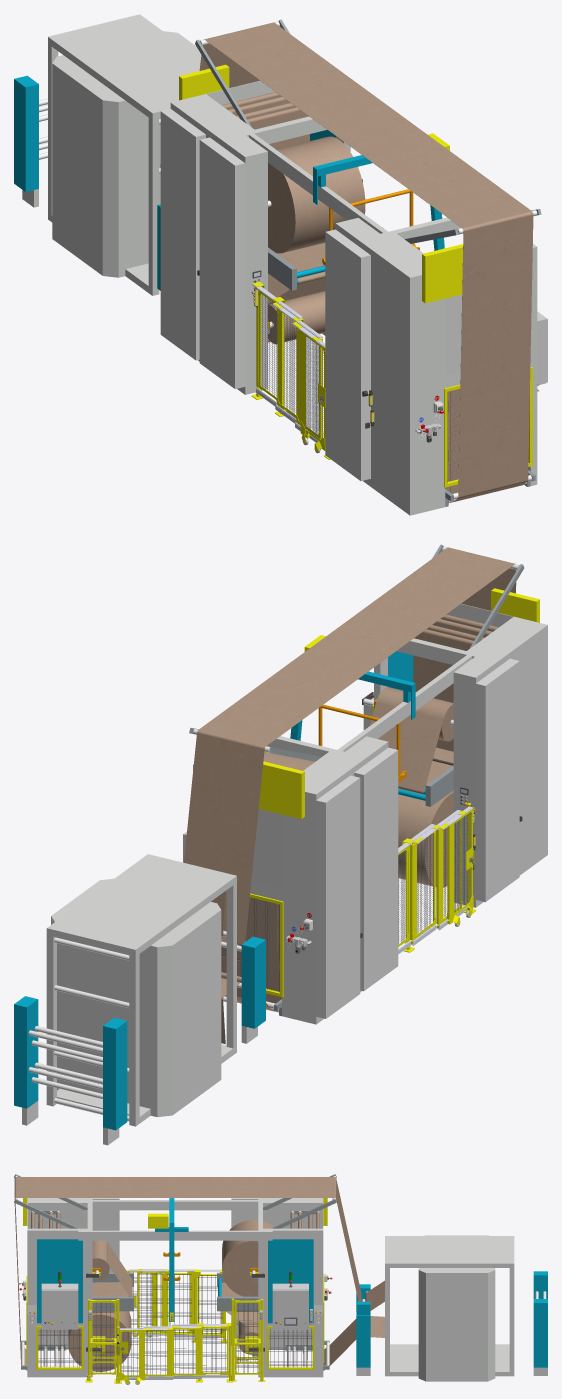
Rendered from RollStandGP_NewModels 1_v2 2.fbx.
3 views of the same model, one above another, from view 1: azimuth 30°, elevation 25°; view 2: azimuth 150°, elevation 25°; view 3: azimuth 270°, elevation 25° (orthographic). The views are drawn at different scales.
Visible parts, largest first — view 1: Solid21, Body, Solid2.059, Panel doors.003, Panel doors.001, Panel doors.002, Rolls.001, Solid21.001, Solid5.005, Solid1.947, Solid4.002, Solid1.783 (+10 smaller); view 2: Solid2.059, Solid21, Body, Panel doors.002, Panel doors.001, Panel doors.003, Rolls.002, Solid21.001, Solid5.005, Solid1.783, Solid5.003, Solid1.947 (+11 smaller); view 3: Body, Solid2.059, Solid21, Blue covers, Blue covers.001, Rolls.001, Rolls.002, Solid21.001, Solid1.1267, Solid1.010, Solid4, Solid1.860 (+22 smaller).
Boxes of the visible parts, x1,y1,x2,y2 form: Solid21: (160, 22, 533, 501); Body: (170, 80, 537, 515); Solid2.059: (48, 14, 201, 295); Panel doors.003: (199, 137, 245, 389); Panel doors.001: (325, 229, 370, 480); Panel doors.002: (160, 108, 205, 360); Rolls.001: (268, 136, 365, 253); Solid21.001: (221, 92, 325, 342); Solid5.005: (14, 75, 38, 191); Solid1.947: (300, 331, 325, 453); Solid4.002: (251, 282, 284, 416); Solid1.783: (272, 301, 303, 423); Solid2.059: (46, 854, 236, 1126); Solid21: (184, 547, 516, 960); Body: (193, 603, 547, 1024); Panel doors.002: (316, 775, 360, 1018); Panel doors.001: (476, 658, 519, 902); Panel doors.003: (354, 747, 398, 991); Rolls.002: (398, 788, 453, 887); Solid21.001: (221, 897, 281, 1043); Solid5.005: (103, 1017, 127, 1130); Solid1.783: (410, 824, 439, 945); Solid5.003: (14, 996, 38, 1108); Solid1.947: (447, 806, 473, 926); Body: (27, 1198, 323, 1377); Solid2.059: (385, 1235, 514, 1381); Solid21: (14, 1177, 384, 1370); Blue covers: (37, 1239, 82, 1323); Blue covers.001: (268, 1239, 313, 1323); Rolls.001: (222, 1220, 273, 1296); Rolls.002: (68, 1311, 131, 1371); Solid21.001: (218, 1212, 384, 1370); Solid1.1267: (41, 1283, 78, 1329); Solid1.010: (272, 1283, 308, 1329); Solid4: (231, 1298, 265, 1381); Solid1.860: (137, 1269, 166, 1335).
Size of the model in its own units: 248 by 406 by 1115.
60 materials, 2 textured.
